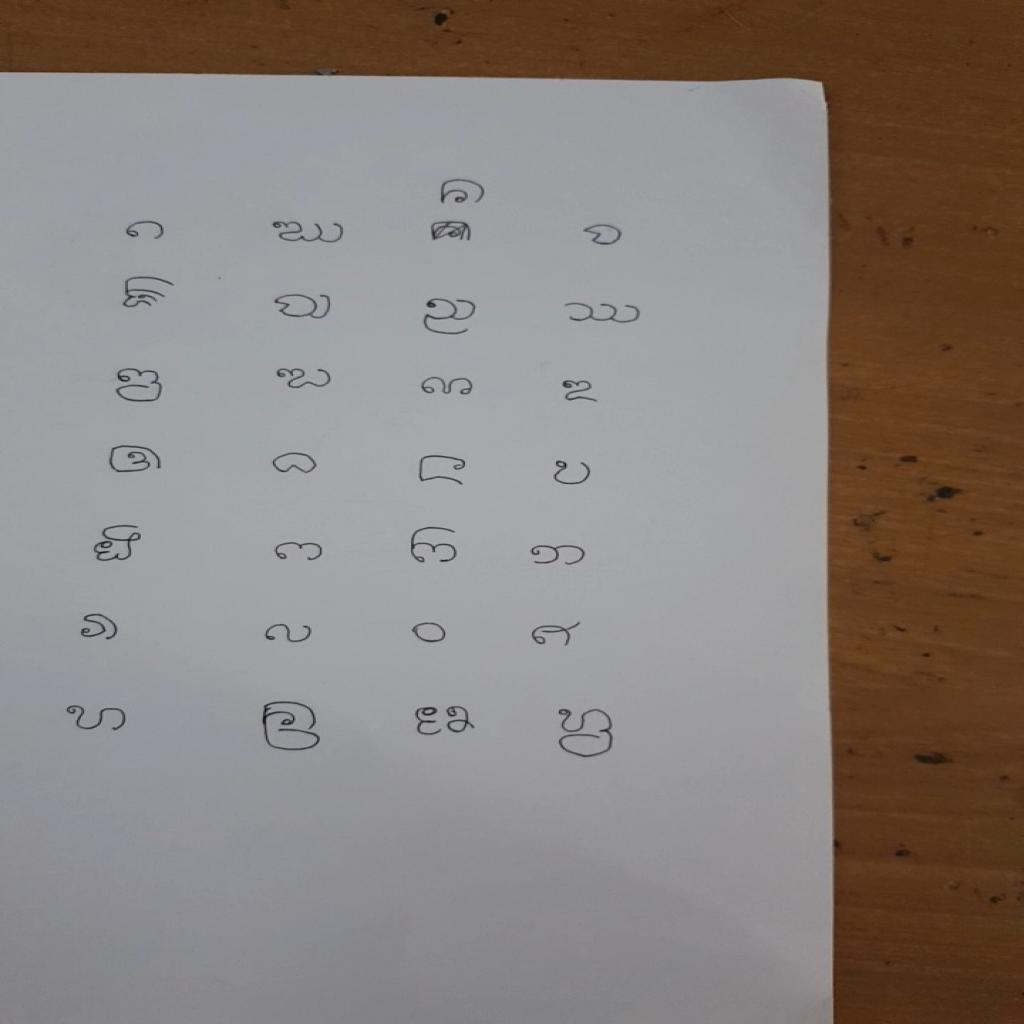LN003: (121, 219, 170, 244)
LN004: (268, 219, 350, 247)
LN005: (436, 177, 491, 209)
LN006: (579, 222, 628, 250)
LN009: (118, 274, 182, 313)
LN010: (269, 292, 339, 324)
LN011: (420, 296, 484, 339)
LN012: (558, 300, 648, 328)
LN015: (112, 365, 171, 406)
LN016: (273, 365, 340, 392)
LN017: (418, 374, 481, 400)
LN018: (556, 376, 607, 407)
LN021: (104, 442, 170, 478)
LN022: (268, 450, 325, 478)
LN023: (415, 452, 474, 491)
LN024: (548, 458, 599, 489)
LN027: (90, 522, 150, 566)
LN028: (269, 539, 331, 566)
LN029: (406, 524, 465, 568)
LN030: (525, 542, 594, 571)
LN033: (75, 611, 127, 644)
LN034: (260, 621, 320, 648)
LN035: (406, 620, 455, 648)
LN036: (526, 619, 588, 651)
LN039: (63, 704, 134, 736)
LN040: (257, 699, 327, 755)
LN041: (410, 702, 483, 741)
LN042: (552, 705, 621, 763)
